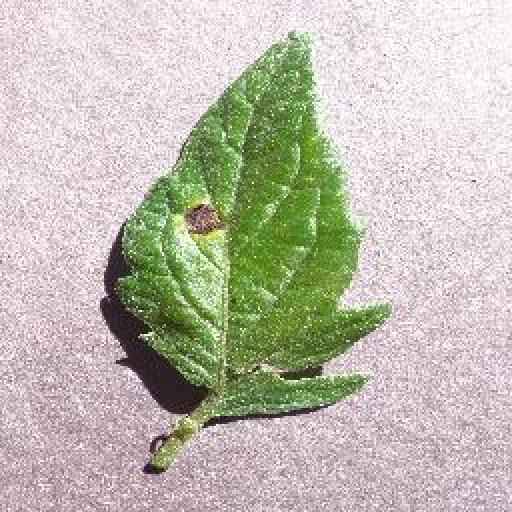disease_tomato: (106, 29, 391, 432)
